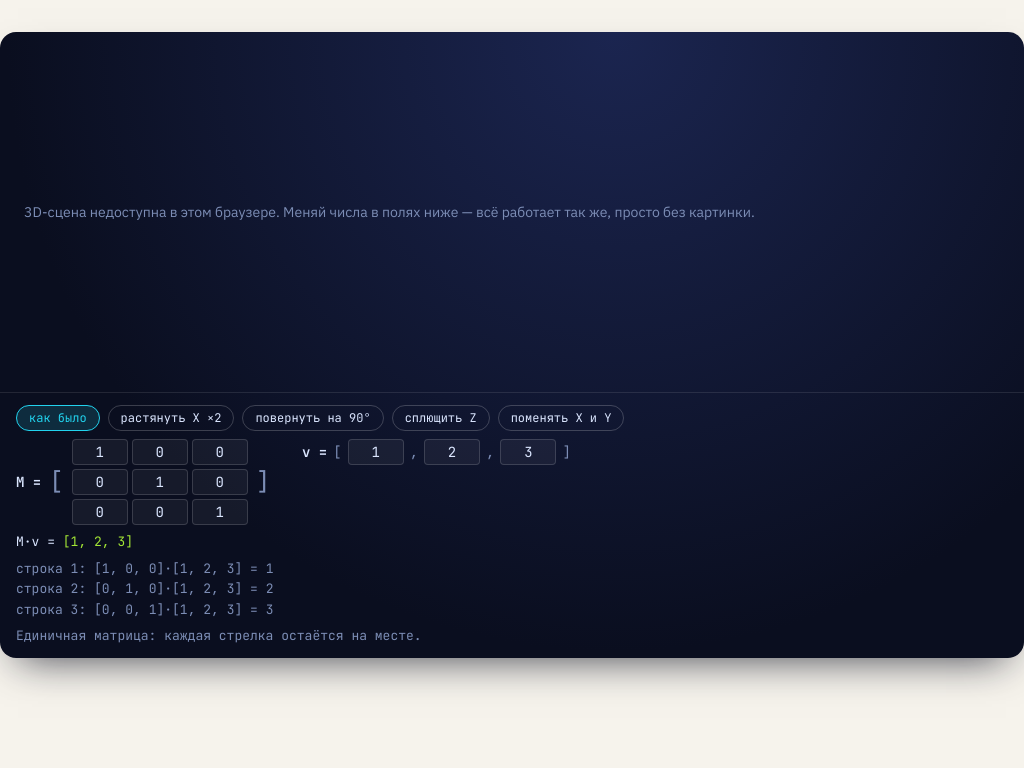
MatrixTransform3D without WebGL › lists one dot product per row and lets the input vector be edited too
The image size is (1024, 768).
Expected: the text "3D-сцена недоступна" is shown, x1=24 y1=203 x2=755 y2=221
Expected: the list item "строка 1: [1, 0, 0]·[1, 2, 3] = 1" is shown, x1=16 y1=560 x2=273 y2=577
Replace the text in the field named "v, координата z" with "0" at point(528, 452), box x1=500 y1=439 x2=556 y2=465
Then press Enter
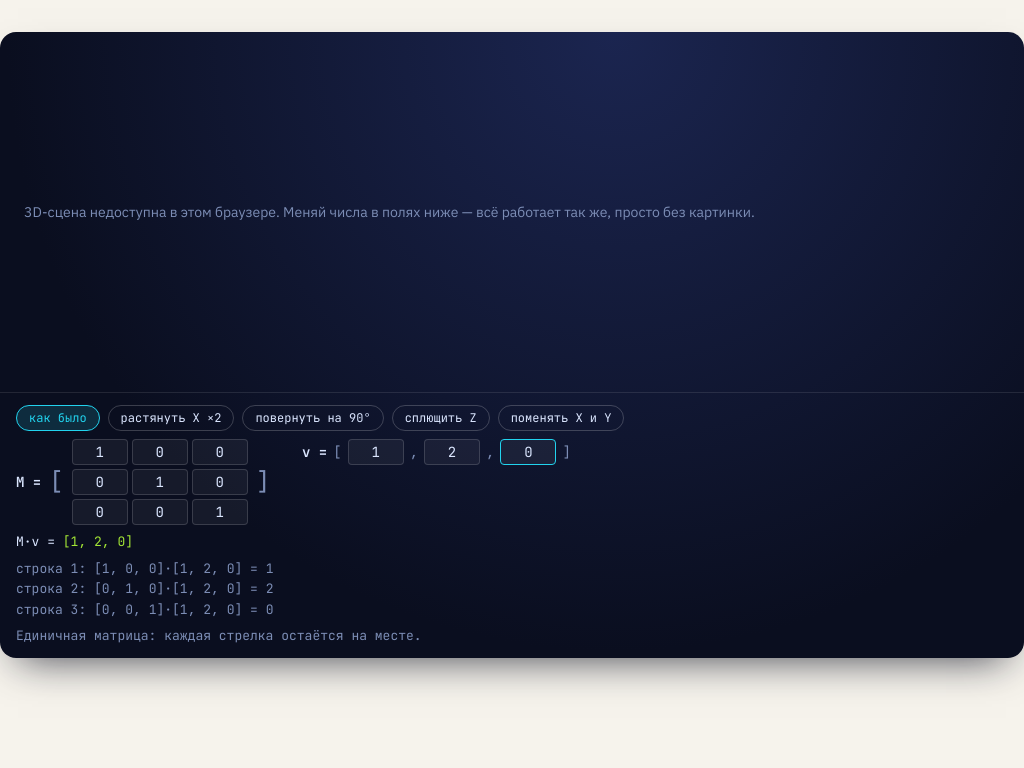
Expected: the text "M·v = [1, 2, 0]" is shown, x1=16 y1=533 x2=133 y2=550
